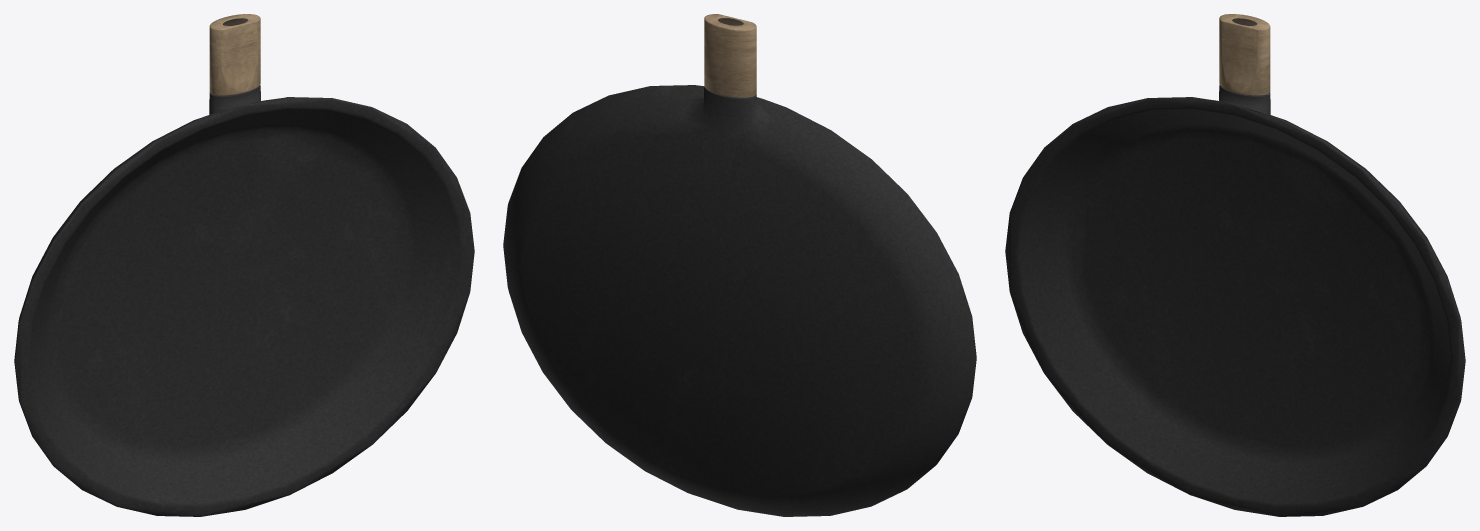
3 renders of one model, left to right at view 1: azimuth 30°, elevation 25°; view 2: azimuth 150°, elevation 25°; view 3: azimuth 330°, elevation 25°, orthographic. The views are drawn at different scales.
Parts seen in each view (by area): view 1: pan_pan_0; view 2: pan_pan_0; view 3: pan_pan_0.
Boxes of the visible parts, <box> form: pan_pan_0: <box>14,14,474,516</box>; pan_pan_0: <box>503,14,976,516</box>; pan_pan_0: <box>1005,14,1465,516</box>.
Size of the model in its own units: 0.11 by 0.11 by 0.00848.
Materials: 1 (1 with a texture image).
